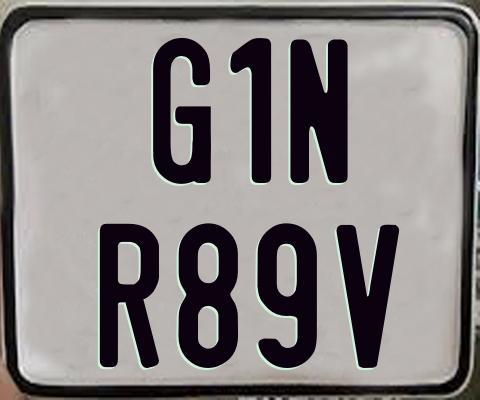1: (228, 37, 270, 187)
8: (175, 222, 236, 371)
9: (255, 222, 315, 373)
G: (151, 36, 212, 184)
N: (289, 39, 353, 184)
R: (100, 223, 159, 371)
V: (336, 224, 401, 367)
